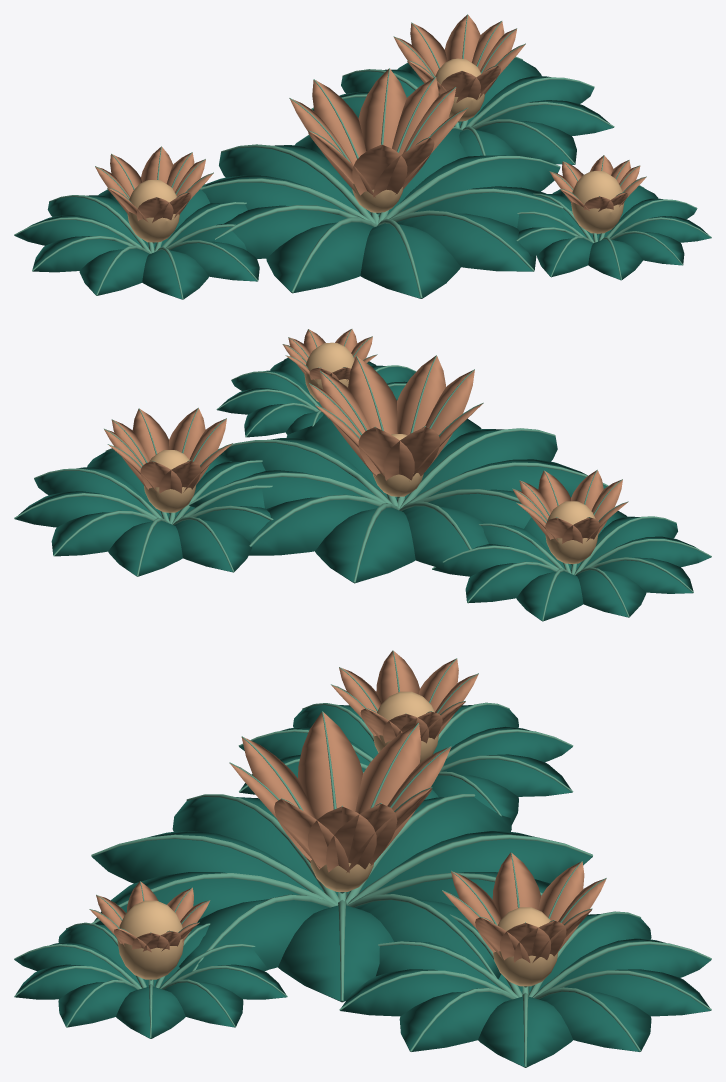
File: thalassa_lotus.glb
The picture shows the model from 3 angles, top to bottom: view 1: azimuth 30°, elevation 25°; view 2: azimuth 150°, elevation 25°; view 3: azimuth 270°, elevation 25°; orthographic projection. The views are drawn at different scales.
Visible parts, largest first — view 1: thalassa_lotus; view 2: thalassa_lotus; view 3: thalassa_lotus.
Part boxes in pixels (x1,y1,x2,y2): thalassa_lotus: (14,14,711,299); thalassa_lotus: (14,329,711,621); thalassa_lotus: (14,650,711,1067).
Size of the model in its own units: 11.06 by 2.22 by 8.76.
